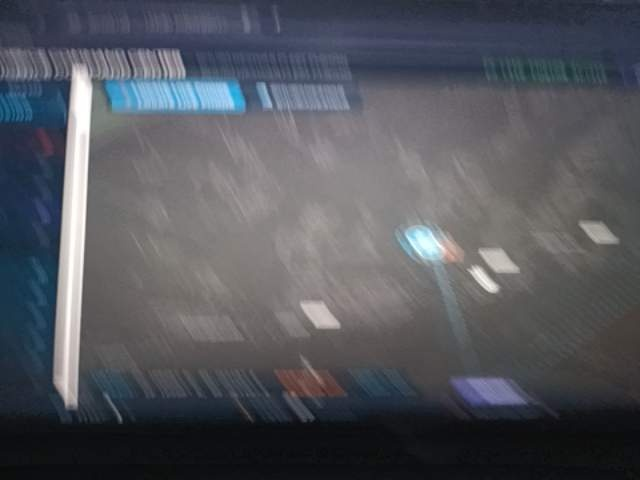pothole: (305, 376, 371, 428)
